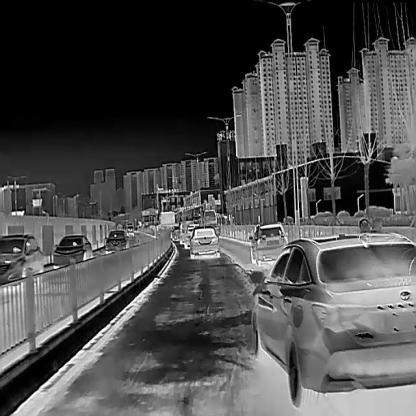car: (251, 231, 416, 409), (0, 233, 44, 291), (248, 222, 288, 266), (53, 233, 92, 270), (190, 226, 218, 257), (104, 229, 129, 254), (183, 223, 199, 249), (179, 219, 194, 243), (202, 208, 217, 227), (159, 211, 174, 229)
